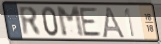0: (41, 5, 60, 38)
1: (124, 8, 136, 38)
A: (101, 6, 127, 40)
E: (79, 7, 104, 38)
M: (55, 6, 87, 39)
R: (17, 5, 44, 38)
